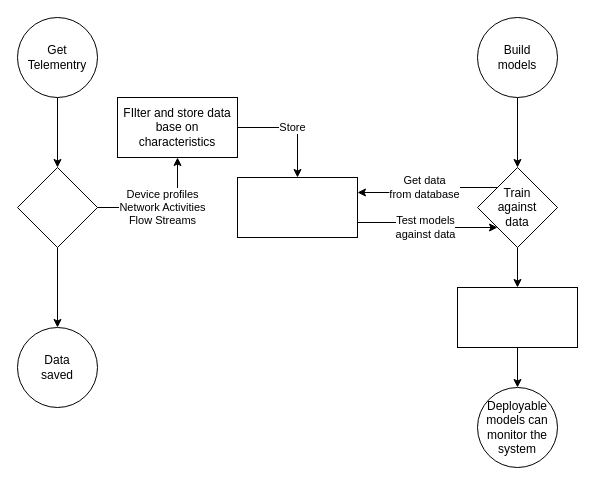
The diagram is 595 pixels wide and 485 high, and some of its shapes have lost their labels. Here are the shapes that lost their labels. From the top down, the centre of each, then its label:
At pixel 57 207: "Extract and save data".
At pixel 297 207: "Database".
At pixel 517 317: "Build models that detect attacks".
